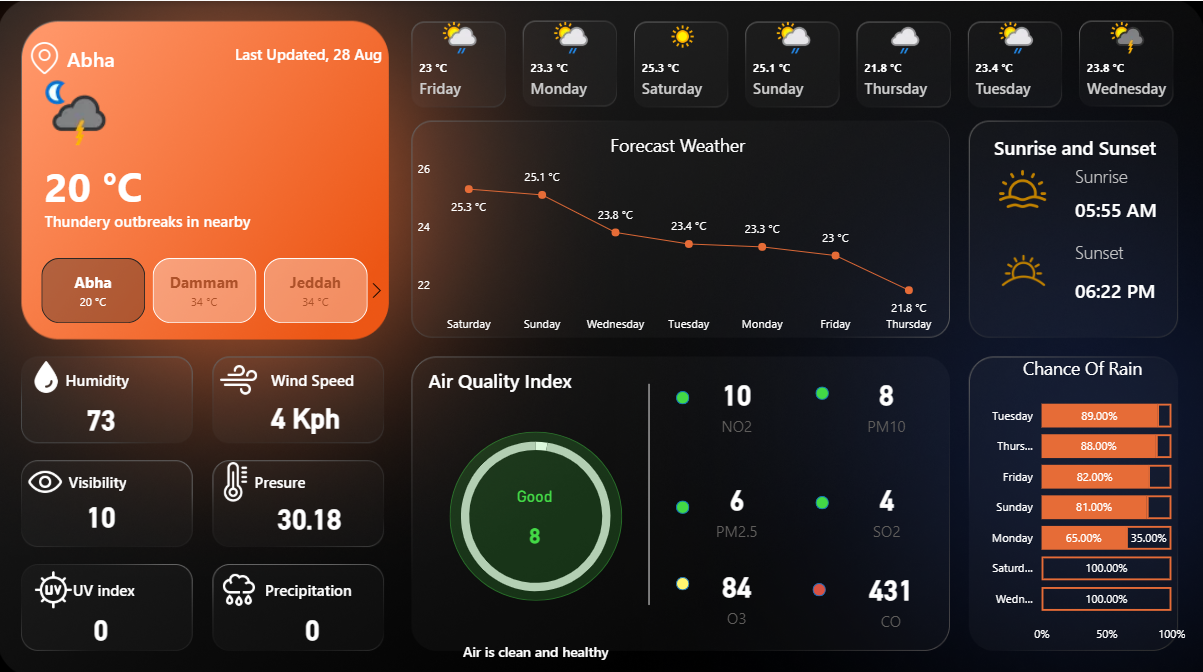

The dashboard page shown, as its layout file describes it:
{"tool":"powerbi","page":{"name":"Weather_report","canvas":[1280,720],"ordinal":0},"visuals":[{"type":"donutChart","fields":{"Y":["Sum(Current.current.air_quality.pm10)","_Measures.Left_value_PM10"]},"box":[423.3,442.9,293.5,208.1],"z":0},{"type":"shape","box":[478.5,457.1,183.2,179.6],"z":1000},{"type":"advancedSlicerVisual","fields":{"Values":["locations.location.name"]},"box":[20.7,267.2,396.1,79.5],"z":2000},{"type":"shape","box":[48.6,158,135.7,74.9],"z":3000},{"type":"shape","box":[48.6,206.6,222.8,52.7],"z":4000},{"type":"shape","box":[72.9,38.5,111.4,44.6],"z":5000},{"type":"shape","box":[251.1,30.4,160,52.7],"z":6000},{"type":"image","box":[26.3,38.5,44.6,44.6],"z":7000},{"type":"cardVisual","fields":{"Data":["Min(Current.current.condition.icon)"]},"box":[16.2,60.8,111.4,121.5],"z":8000},{"type":"image","box":[26.3,374.7,48.6,46.6],"z":9000},{"type":"image","box":[218.7,484.1,64.8,52.7],"z":10000},{"type":"image","box":[14.2,484.1,70.9,52.7],"z":11000},{"type":"image","box":[26.3,597.5,62.8,52.7],"z":12000},{"type":"image","box":[218.7,374.7,70.9,52.7],"z":13000},{"type":"image","box":[212.7,597.5,85.1,52.7],"z":14000},{"type":"shape","box":[283.5,597.5,160,52.7],"z":15000},{"type":"shape","box":[79,597.5,160,52.7],"z":16000},{"type":"shape","box":[74.9,484.1,160,52.7],"z":17000},{"type":"shape","box":[271.4,484.1,160,52.7],"z":18000},{"type":"shape","box":[289.6,374.7,160,52.7],"z":19000},{"type":"shape","box":[70.9,374.7,160,52.7],"z":20000},{"type":"card","fields":{"Values":["Sum(Current.current.humidity)"]},"box":[64.8,401,87.1,83],"z":21000},{"type":"card","fields":{"Values":["Sum(Current.current.uv)"]},"box":[64.8,623.8,87.1,83],"z":22000},{"type":"card","fields":{"Values":["Sum(Current.current.pressure_in)"]},"box":[285.6,506.3,87.1,83],"z":23000},{"type":"card","fields":{"Values":["Sum(Current.current.vis_km)"]},"box":[64.8,504.3,87.1,83],"z":24000},{"type":"card","fields":{"Values":["_Measures.Wind_Speed"]},"box":[261.3,399,129.6,83],"z":25000},{"type":"card","fields":{"Values":["Sum(Current.current.precip_in)"]},"box":[289.6,623.8,87.1,83],"z":26000},{"type":"advancedSlicerVisual","fields":{"Values":["Forecast_day.Day_Name"]},"box":[432.2,14.2,826.4,106.9],"z":27000},{"type":"lineChart","title":"Forecast Weather","fields":{"Y":["Sum(Forecast_day.forecast.forecastday.day.avgtemp_c)"],"Category":["Forecast_day.Day_Name"]},"box":[443.5,137.7,552.9,222.8],"z":28000},{"type":"shape","box":[1040.3,128.8,203.6,52.5],"z":29000},{"type":"shape","box":[1142.1,195.6,101.8,50.9],"z":30000},{"type":"shape","box":[1142.1,163.8,101.8,42.9],"z":31000},{"type":"shape","box":[1142.1,249.7,135.2,31.8],"z":32000},{"type":"image","box":[1043.4,249.7,87.5,71.6],"z":33000},{"type":"image","box":[1056.2,167,60.4,65.2],"z":34000},{"type":"hundredPercentStackedBarChart","title":"Chance Of Rain","fields":{"Y":["Sum(Forecast_day.forecast.forecastday.day.daily_chance_of_rain)","_Measures.Left_value_Rain"],"Category":["Forecast_day.Day_Name"]},"box":[1041,374.7,218.7,313.9],"z":35000},{"type":"shape","box":[431.4,376.7,202.5,50.6],"z":36000},{"type":"card","fields":{"Values":["Sum(Current.current.air_quality.o3)"]},"box":[719.6,588.9,128.2,83.1],"z":37000},{"type":"card","fields":{"Values":["Sum(Current.current.air_quality.no2)"]},"box":[719.6,384.7,128.2,83.1],"z":38000},{"type":"card","fields":{"Values":["Sum(Current.current.air_quality.pm10)"]},"box":[876.3,384.7,130.6,83.1],"z":39000},{"type":"card","fields":{"Values":["Sum(Current.current.air_quality.co)"]},"box":[881,591.3,130.6,83.1],"z":40000},{"type":"card","fields":{"Values":["Sum(Current.current.air_quality.pm2_5)"]},"box":[719.6,496.3,128.2,83.1],"z":41000},{"type":"card","fields":{"Values":["Sum(Current.current.air_quality.so2)"]},"box":[878.7,496.3,128.2,83.1],"z":42000},{"type":"shape","box":[719.6,413.2,14.2,14.2],"z":43000},{"type":"shape","box":[719.6,610.3,14.2,14.2],"z":44000},{"type":"shape","box":[866.8,524.8,14.2,14.2],"z":45000},{"type":"shape","box":[719.6,529.6,14.2,14.2],"z":46000},{"type":"shape","box":[866.8,408.5,14.2,14.2],"z":47000},{"type":"shape","box":[864.4,617.4,14.2,14.2],"z":48000},{"type":"shape","box":[615.1,406.1,149.6,235.1],"z":49000},{"type":"card","fields":{"Values":["Sum(Current.current.air_quality.pm10)"]},"box":[514,515.8,110.3,81.8],"z":50000},{"type":"shape","box":[1142.1,281.5,101.8,50.9],"z":51000},{"type":"shape","box":[450,663.4,240.1,51.6],"z":52000}]}

Visuals, with their boxes in screenshot pixels (x1, y1, x2, y2), scaled from the page's 1280x720 canvas onto the 1203x672 screenshot:
donutChart - Sum(Current.current.air_quality.pm10) x _Measures.Left_value_PM10: (left=398, top=413, right=674, bottom=608)
shape: (left=450, top=427, right=622, bottom=594)
advancedSlicerVisual - locations.location.name: (left=19, top=249, right=392, bottom=324)
shape: (left=46, top=147, right=173, bottom=217)
shape: (left=46, top=193, right=255, bottom=242)
shape: (left=69, top=36, right=173, bottom=78)
shape: (left=236, top=28, right=386, bottom=78)
image: (left=25, top=36, right=67, bottom=78)
cardVisual - Min(Current.current.condition.icon): (left=15, top=57, right=120, bottom=170)
image: (left=25, top=350, right=70, bottom=393)
image: (left=206, top=452, right=266, bottom=501)
image: (left=13, top=452, right=80, bottom=501)
image: (left=25, top=558, right=84, bottom=607)
image: (left=206, top=350, right=272, bottom=399)
image: (left=200, top=558, right=280, bottom=607)
shape: (left=266, top=558, right=417, bottom=607)
shape: (left=74, top=558, right=225, bottom=607)
shape: (left=70, top=452, right=221, bottom=501)
shape: (left=255, top=452, right=405, bottom=501)
shape: (left=272, top=350, right=423, bottom=399)
shape: (left=67, top=350, right=217, bottom=399)
card - Sum(Current.current.humidity): (left=61, top=374, right=143, bottom=452)
card - Sum(Current.current.uv): (left=61, top=582, right=143, bottom=660)
card - Sum(Current.current.pressure_in): (left=268, top=473, right=350, bottom=550)
card - Sum(Current.current.vis_km): (left=61, top=471, right=143, bottom=548)
card - _Measures.Wind_Speed: (left=246, top=372, right=367, bottom=450)
card - Sum(Current.current.precip_in): (left=272, top=582, right=354, bottom=660)
advancedSlicerVisual - Forecast_day.Day_Name: (left=406, top=13, right=1183, bottom=113)
"Forecast Weather" lineChart: (left=417, top=129, right=936, bottom=336)
shape: (left=978, top=120, right=1169, bottom=169)
shape: (left=1073, top=183, right=1169, bottom=230)
shape: (left=1073, top=153, right=1169, bottom=193)
shape: (left=1073, top=233, right=1200, bottom=263)
image: (left=981, top=233, right=1063, bottom=300)
image: (left=993, top=156, right=1049, bottom=217)
"Chance Of Rain" hundredPercentStackedBarChart: (left=978, top=350, right=1184, bottom=643)
shape: (left=405, top=352, right=596, bottom=399)
card - Sum(Current.current.air_quality.o3): (left=676, top=550, right=797, bottom=627)
card - Sum(Current.current.air_quality.no2): (left=676, top=359, right=797, bottom=437)
card - Sum(Current.current.air_quality.pm10): (left=824, top=359, right=946, bottom=437)
card - Sum(Current.current.air_quality.co): (left=828, top=552, right=951, bottom=629)
card - Sum(Current.current.air_quality.pm2_5): (left=676, top=463, right=797, bottom=541)
card - Sum(Current.current.air_quality.so2): (left=826, top=463, right=946, bottom=541)
shape: (left=676, top=386, right=690, bottom=399)
shape: (left=676, top=570, right=690, bottom=583)
shape: (left=815, top=490, right=828, bottom=503)
shape: (left=676, top=494, right=690, bottom=508)
shape: (left=815, top=381, right=828, bottom=395)
shape: (left=812, top=576, right=826, bottom=589)
shape: (left=578, top=379, right=719, bottom=598)
card - Sum(Current.current.air_quality.pm10): (left=483, top=481, right=587, bottom=558)
shape: (left=1073, top=263, right=1169, bottom=310)
shape: (left=423, top=619, right=649, bottom=667)
